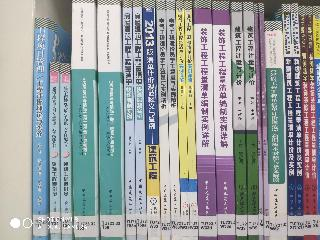book-spine: (97, 1, 123, 239), (73, 1, 98, 239), (212, 1, 236, 239), (194, 1, 216, 239), (265, 22, 286, 239), (143, 1, 161, 239), (231, 2, 247, 240), (166, 1, 180, 240), (156, 1, 170, 239), (133, 2, 147, 239), (244, 2, 258, 239), (33, 17, 48, 238), (123, 1, 136, 239), (176, 1, 189, 239), (185, 1, 198, 239), (283, 5, 295, 239), (291, 4, 302, 239), (306, 6, 317, 240), (299, 6, 310, 239), (253, 4, 263, 240), (60, 64, 73, 239), (260, 2, 269, 240), (50, 63, 60, 239)
